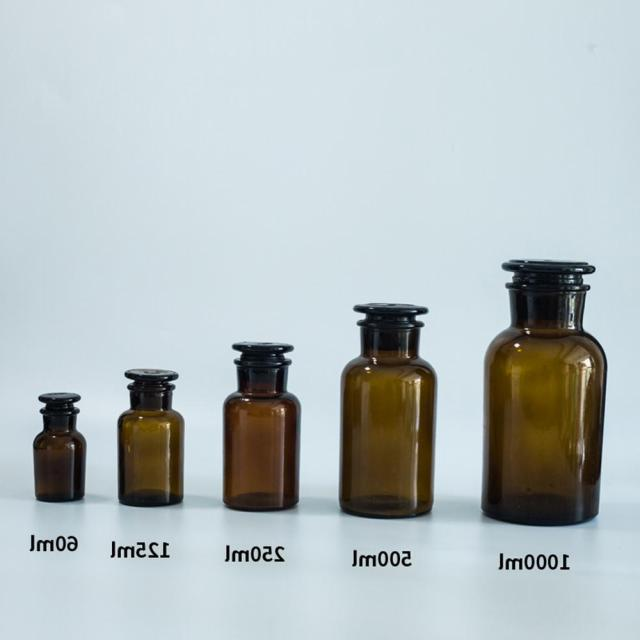glass: (474, 255, 613, 531)
